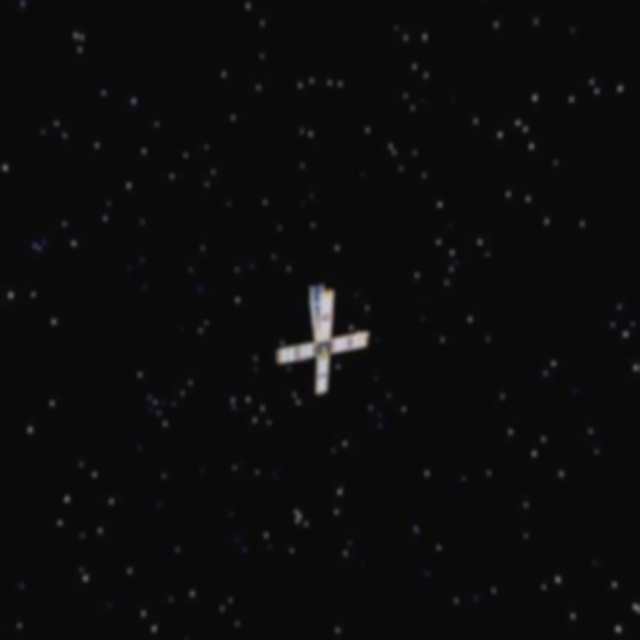satellite: (267, 283, 383, 400)
